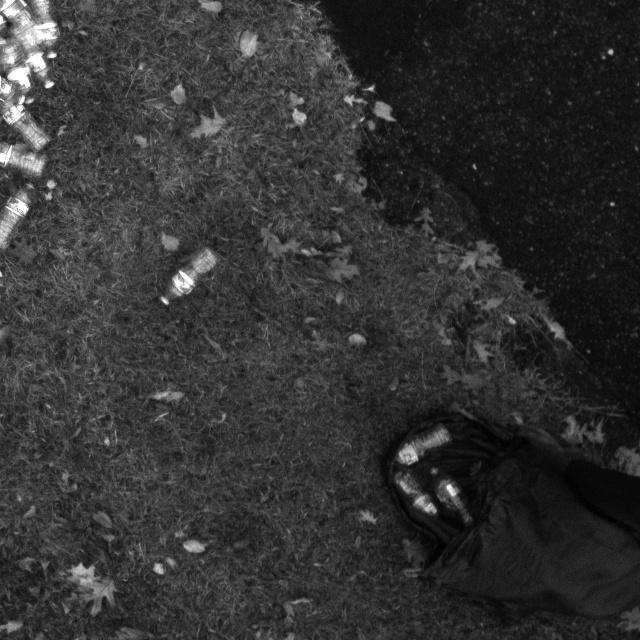bottle: (142, 241, 229, 315), (6, 14, 57, 90), (0, 88, 51, 154), (29, 0, 60, 62)
